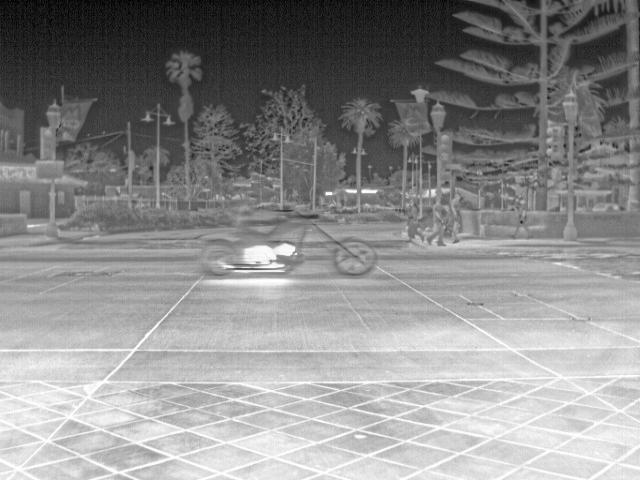person: (233, 188, 256, 236), (403, 198, 427, 244), (429, 198, 447, 244), (449, 194, 465, 244)
